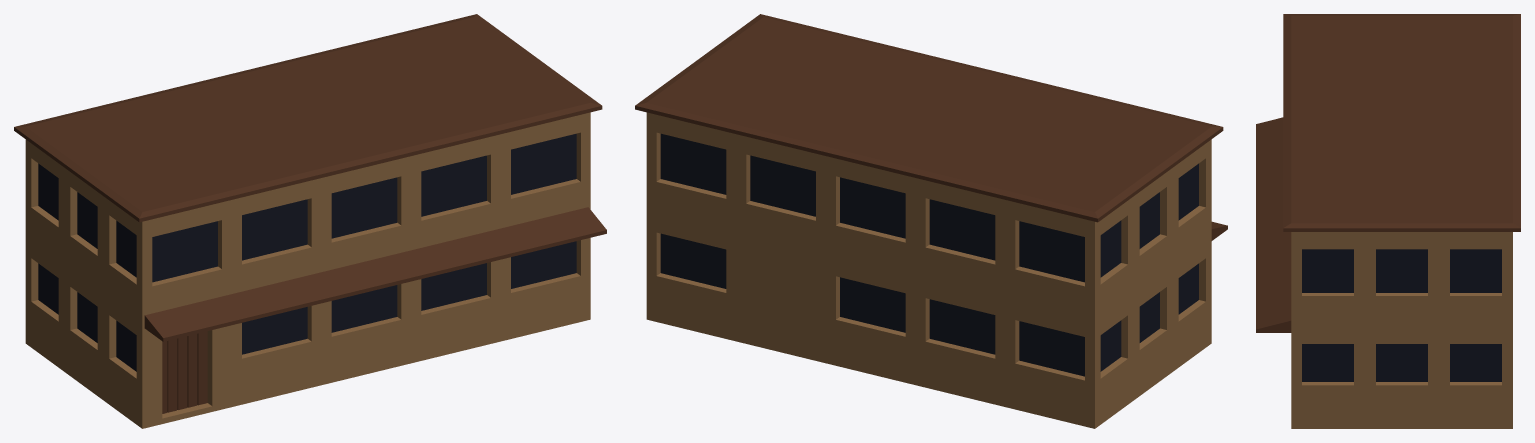
Rendered from LPWarPack_Plane_003.fbx.
3 renders of one model, left to right at view 1: azimuth 30°, elevation 25°; view 2: azimuth 150°, elevation 25°; view 3: azimuth 270°, elevation 25°, orthographic. The views are drawn at different scales.
Visible parts, largest first — view 1: Plane.003; view 2: Plane.003; view 3: Plane.003.
Boxes of the visible parts, x1,y1,x2,y2 form: Plane.003: [14, 14, 606, 428]; Plane.003: [635, 14, 1227, 428]; Plane.003: [1256, 14, 1520, 428].
Bounding box in the file's own units: 1212 × 542 × 633.
